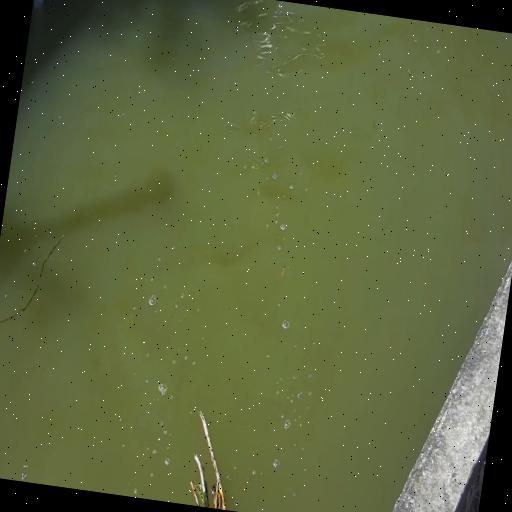twig: (178, 401, 256, 512)
